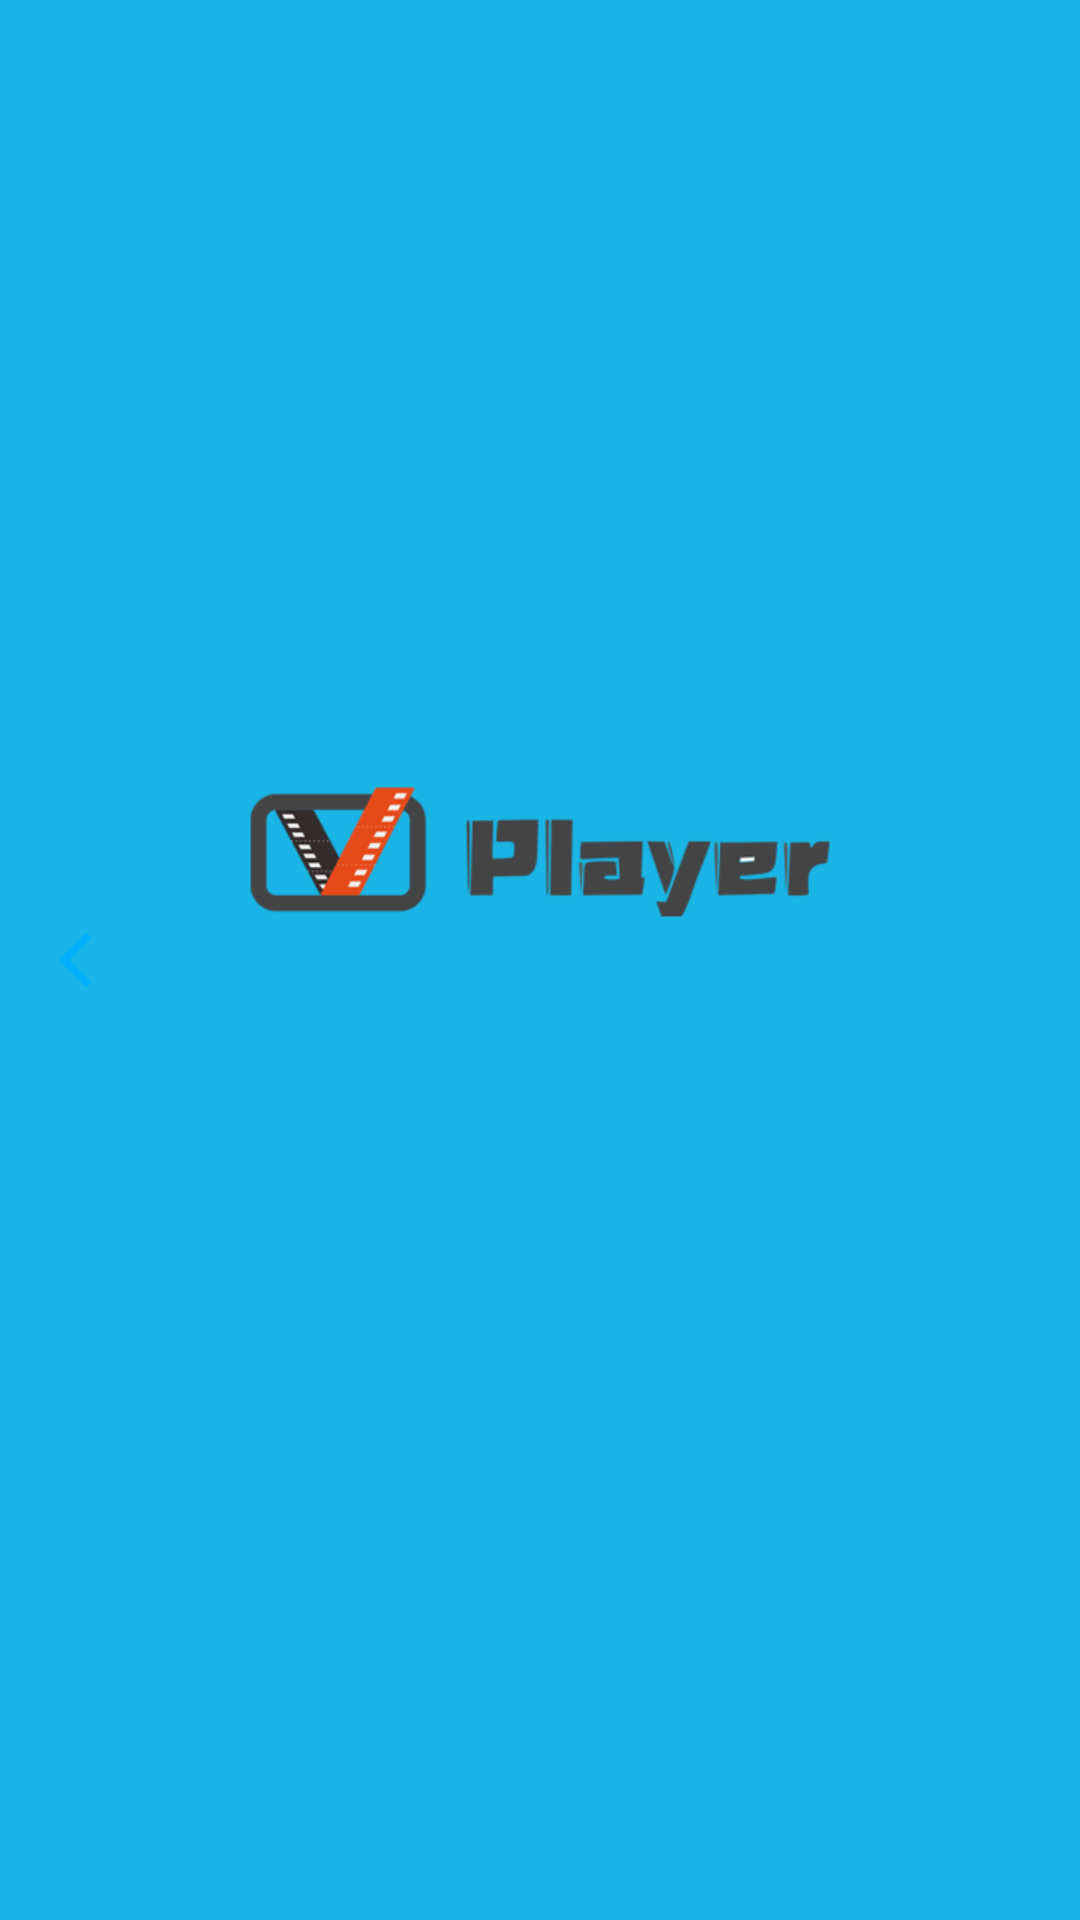

Locate icon controls on the screen. Image size 1080w x 1920h, boxes as (x1, y1, x2, y2).
back: (60, 934, 90, 986)
